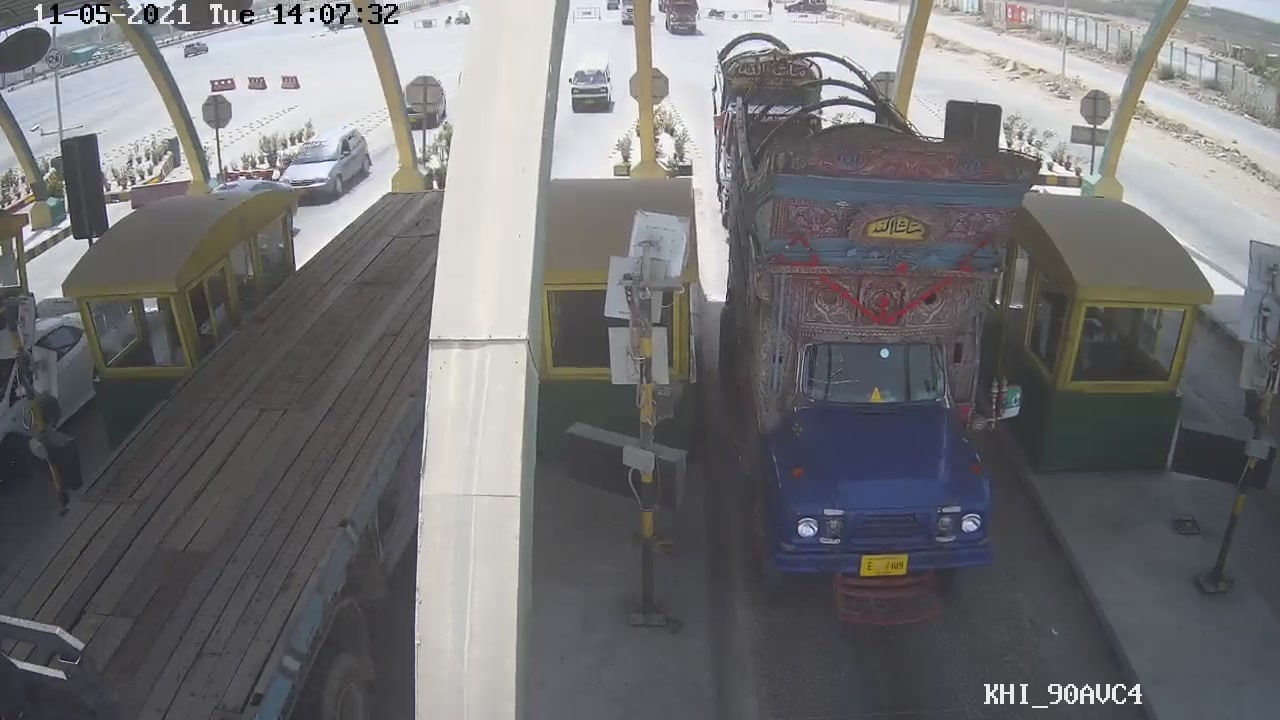F5: (718, 94, 1047, 634)
